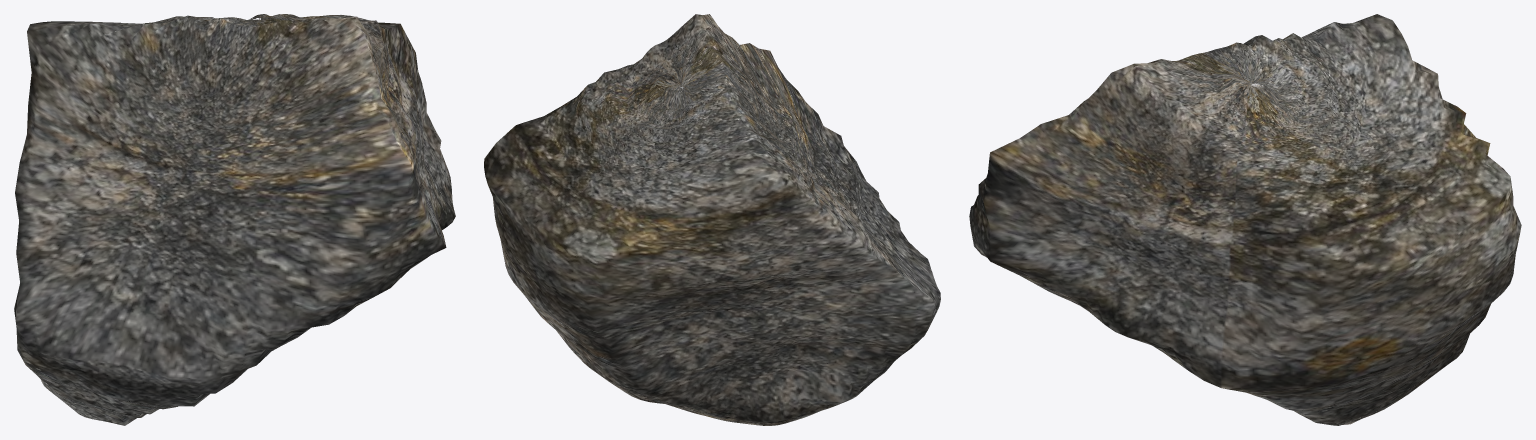
The model's file is granite_erratic.glb.
The picture shows the model from 3 angles, left to right: view 1: azimuth 30°, elevation 25°; view 2: azimuth 150°, elevation 25°; view 3: azimuth 270°, elevation 25°; orthographic projection. The views are drawn at different scales.
Parts seen in each view (by area): view 1: granite_erratic; view 2: granite_erratic; view 3: granite_erratic.
Boxes of the visible parts, left/top/right/bottom form: granite_erratic: left=14, top=14, right=455, bottom=425; granite_erratic: left=484, top=14, right=940, bottom=425; granite_erratic: left=969, top=14, right=1521, bottom=425.
Bounding box in the file's own units: 1.07 × 0.8548 × 1.08.
Materials: 1 (1 with a texture image).
